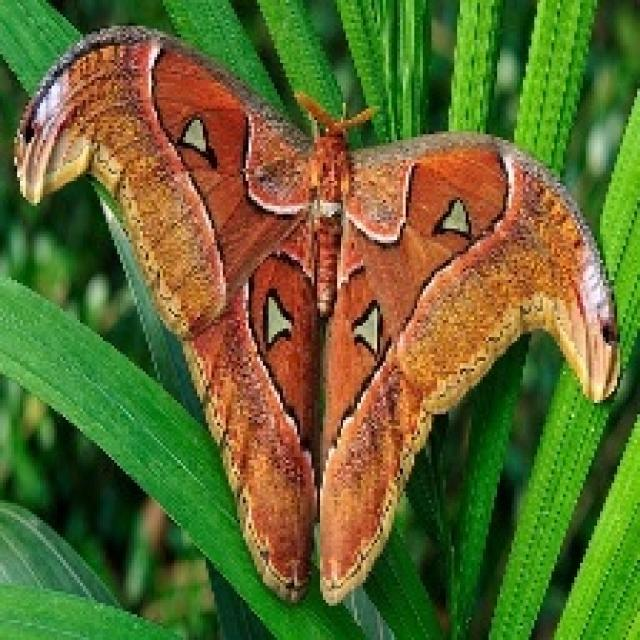butterfly: (11, 20, 623, 609)
